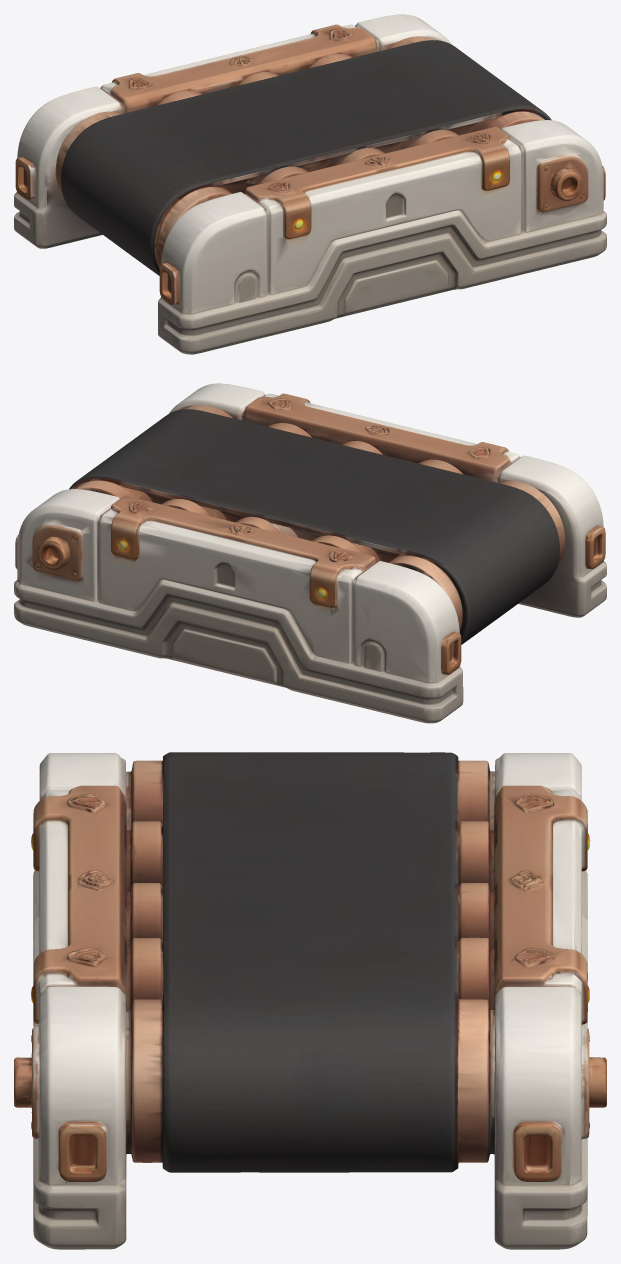
The model's file is conveyor_straight.glb.
3 views of the same model, one above another, from view 1: azimuth 30°, elevation 25°; view 2: azimuth 150°, elevation 25°; view 3: azimuth 270°, elevation 25° (orthographic). The views are drawn at different scales.
Parts seen in each view (by area): view 1: node_0; view 2: node_0; view 3: node_0.
Part boxes in pixels (x1=…): node_0: x1=14, y1=14, x2=606, y2=354; node_0: x1=14, y1=383, x2=606, y2=723; node_0: x1=14, y1=752, x2=606, y2=1249.
Bounding box in the file's own units: 0.9822 × 0.2905 × 0.7393.
1 material, 1 textured.
